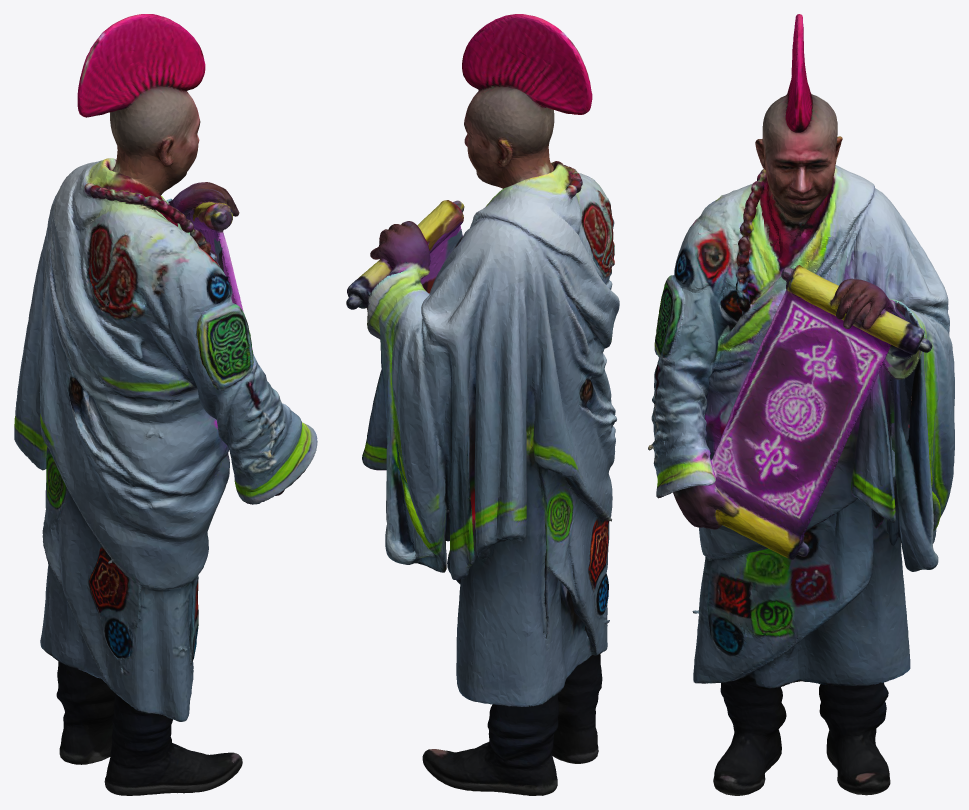
The model's file is modelo46.glb.
3 renders of one model, left to right at view 1: azimuth 30°, elevation 25°; view 2: azimuth 150°, elevation 25°; view 3: azimuth 270°, elevation 25°, orthographic.
Visible parts, largest first — view 1: tripo_node_21b425ca-d50b-4d35-b892-6a822d1d02fc; view 2: tripo_node_21b425ca-d50b-4d35-b892-6a822d1d02fc; view 3: tripo_node_21b425ca-d50b-4d35-b892-6a822d1d02fc.
Part boxes in pixels (box(x1,y1,x2,y2)): tripo_node_21b425ca-d50b-4d35-b892-6a822d1d02fc: box(14, 14, 317, 795); tripo_node_21b425ca-d50b-4d35-b892-6a822d1d02fc: box(346, 14, 619, 795); tripo_node_21b425ca-d50b-4d35-b892-6a822d1d02fc: box(648, 14, 954, 795).
Size of the model in its own units: 0.2755 by 1 by 0.3713.
1 material, 1 textured.
